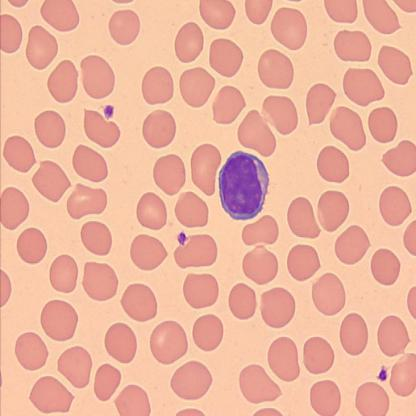Lymphocyte: (217, 149, 270, 220)
